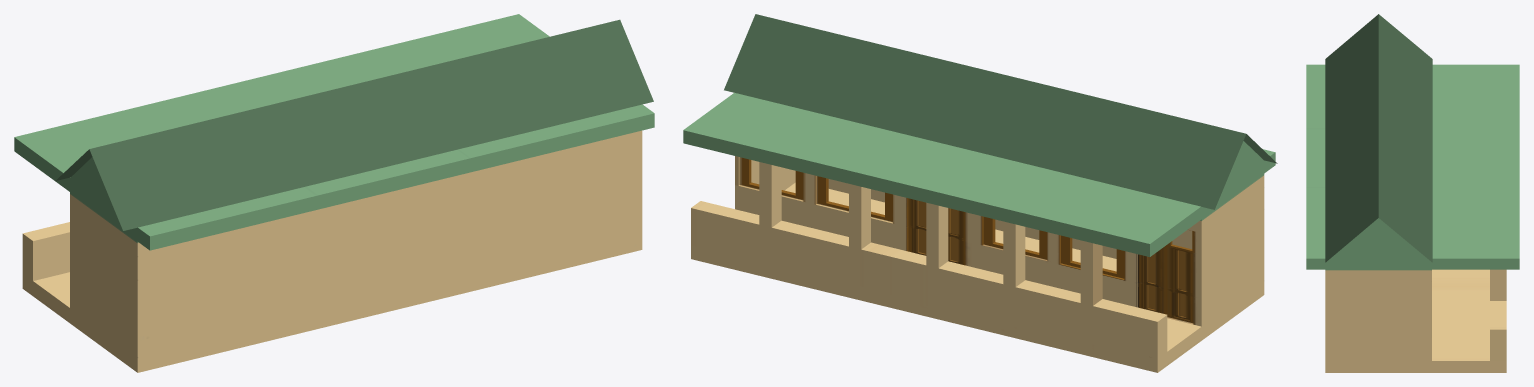
The model's file is gedung sekolah1 1.fbx.
3 views of the same model, side by side, from view 1: azimuth 30°, elevation 25°; view 2: azimuth 150°, elevation 25°; view 3: azimuth 270°, elevation 25° (orthographic). The views are drawn at different scales.
Visible parts, largest first — view 1: Cube, Cube.001; view 2: Cube, Cube.001; view 3: Cube, Cube.001.
Part boxes in pixels (left/top/right/bottom): Cube: left=14, top=14, right=654, bottom=372; Cube.001: left=55, top=19, right=653, bottom=230; Cube: left=683, top=93, right=1275, bottom=372; Cube.001: left=724, top=14, right=1277, bottom=209; Cube: left=1306, top=64, right=1519, bottom=372; Cube.001: left=1325, top=14, right=1432, bottom=262.
Size of the model in its own units: 9.88 by 3.6 by 4.37.
Materials: 2 (1 with a texture image).
